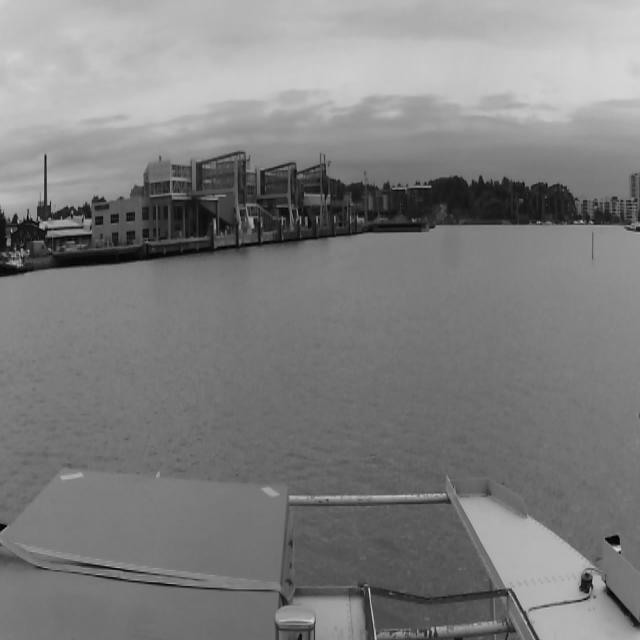buoy: (589, 229, 595, 263)
